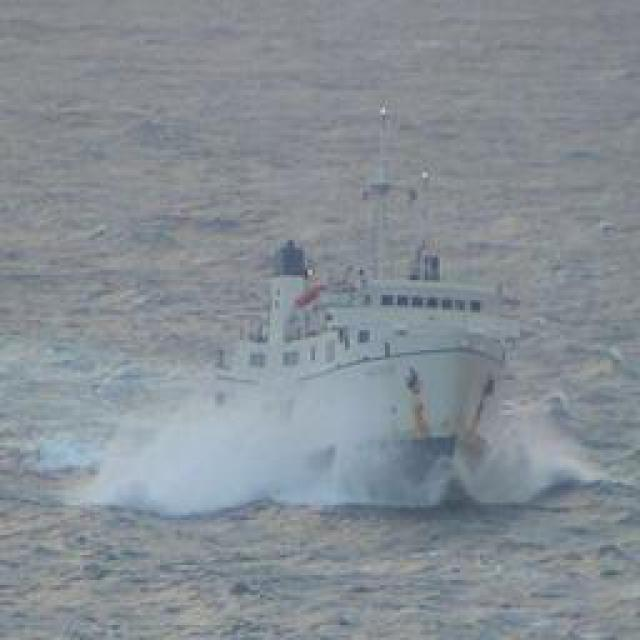Ship: (97, 74, 530, 507)
